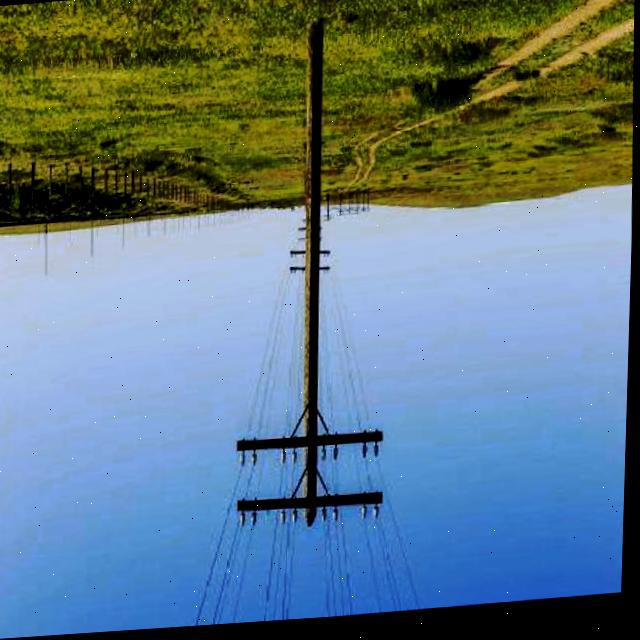poles: (230, 22, 397, 536)
wires: (153, 531, 424, 624), (317, 276, 379, 442), (249, 274, 309, 442)
